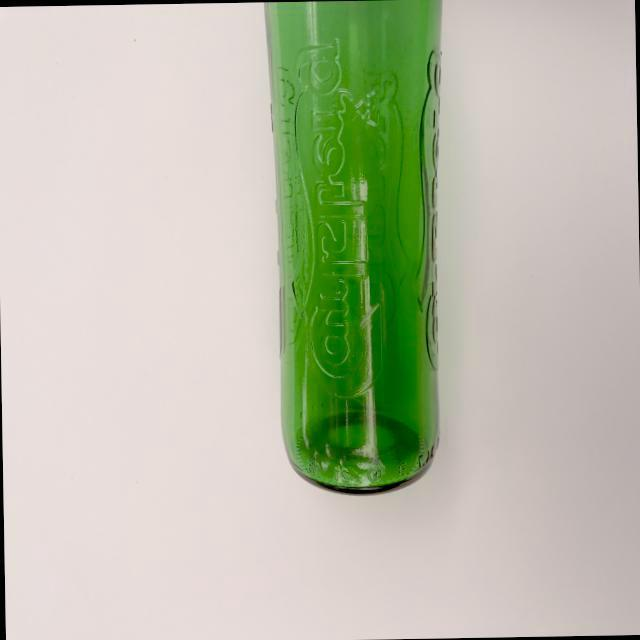glass: (244, 0, 462, 508)
